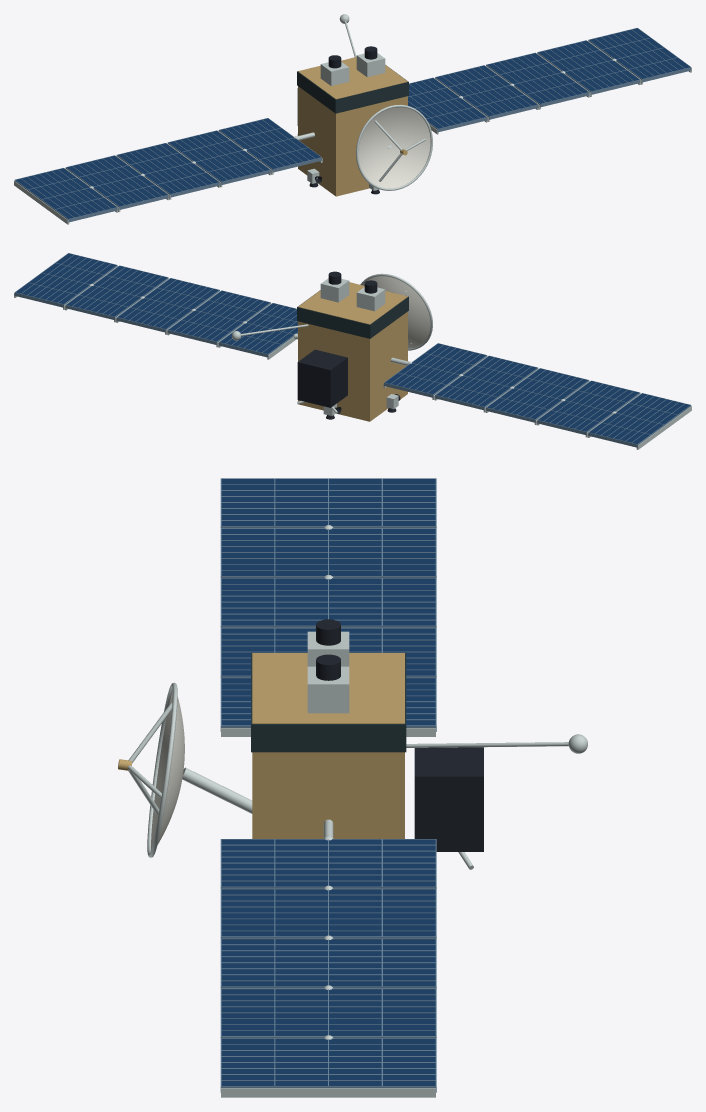
File: rosetta.glb
3 views of the same model, one above another, from view 1: azimuth 30°, elevation 25°; view 2: azimuth 150°, elevation 25°; view 3: azimuth 270°, elevation 25° (orthographic). The views are drawn at different scales.
Parts seen in each view (by area): view 1: photovoltaic-panel (×10), solar (×10), body, reflector, instruments, antenna; view 2: photovoltaic-panel (×10), solar (×10), body, payload, instruments, reflector, antenna, propulsion; view 3: photovoltaic-panel (×10), solar (×10), body, payload, instruments, antenna (×2), reflector.
Part boxes in pixels (bbox=[...]): photovoltaic-panel (×10): bbox=[16, 28, 690, 218]; solar (×10): bbox=[14, 28, 691, 224]; body: bbox=[297, 57, 408, 196]; reflector: bbox=[358, 107, 430, 188]; instruments: bbox=[320, 14, 385, 85]; antenna: bbox=[356, 104, 432, 190]; photovoltaic-panel (×10): bbox=[15, 253, 690, 443]; solar (×10): bbox=[14, 253, 691, 449]; body: bbox=[297, 282, 408, 421]; payload: bbox=[297, 349, 347, 413]; instruments: bbox=[231, 271, 385, 340]; reflector: bbox=[363, 276, 430, 348]; antenna: bbox=[360, 273, 432, 350]; propulsion: bbox=[323, 394, 400, 419]; photovoltaic-panel (×10): bbox=[221, 479, 435, 1085]; solar (×10): bbox=[220, 478, 436, 1097]; body: bbox=[251, 653, 406, 838]; payload: bbox=[414, 747, 483, 869]; instruments: bbox=[307, 619, 587, 753]; antenna (×2): bbox=[118, 682, 252, 857]; reflector: bbox=[151, 691, 184, 849].
Bounding box in the file's own units: 10.39 × 1.95 × 3.39.
